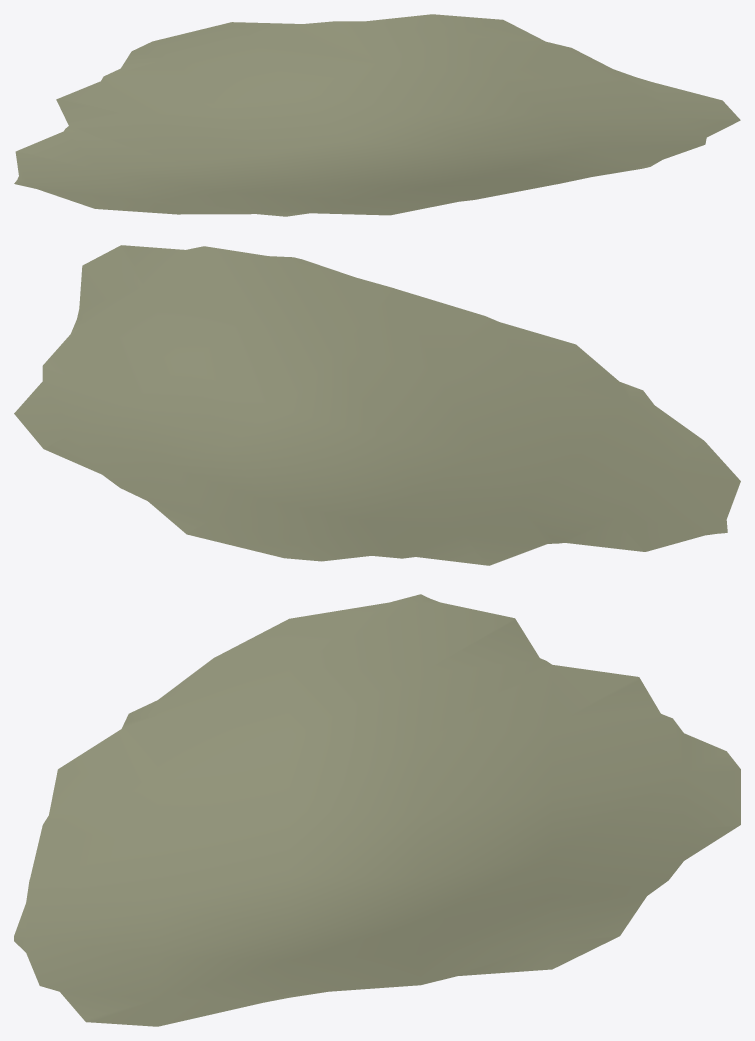
The model's file is SM_ForestBed_ShallowPuddle.fbx.
The picture shows the model from 3 angles, top to bottom: view 1: azimuth 30°, elevation 25°; view 2: azimuth 150°, elevation 25°; view 3: azimuth 270°, elevation 25°; orthographic projection. The views are drawn at different scales.
Visible parts, largest first — view 1: SM_ForestBed_ShallowPuddle; view 2: SM_ForestBed_ShallowPuddle; view 3: SM_ForestBed_ShallowPuddle.
Boxes of the visible parts, bbox=[...] form: SM_ForestBed_ShallowPuddle: bbox=[14, 14, 740, 216]; SM_ForestBed_ShallowPuddle: bbox=[14, 245, 740, 565]; SM_ForestBed_ShallowPuddle: bbox=[14, 594, 740, 1026].
Size of the model in its own units: 309 by 219 by 17.66.
